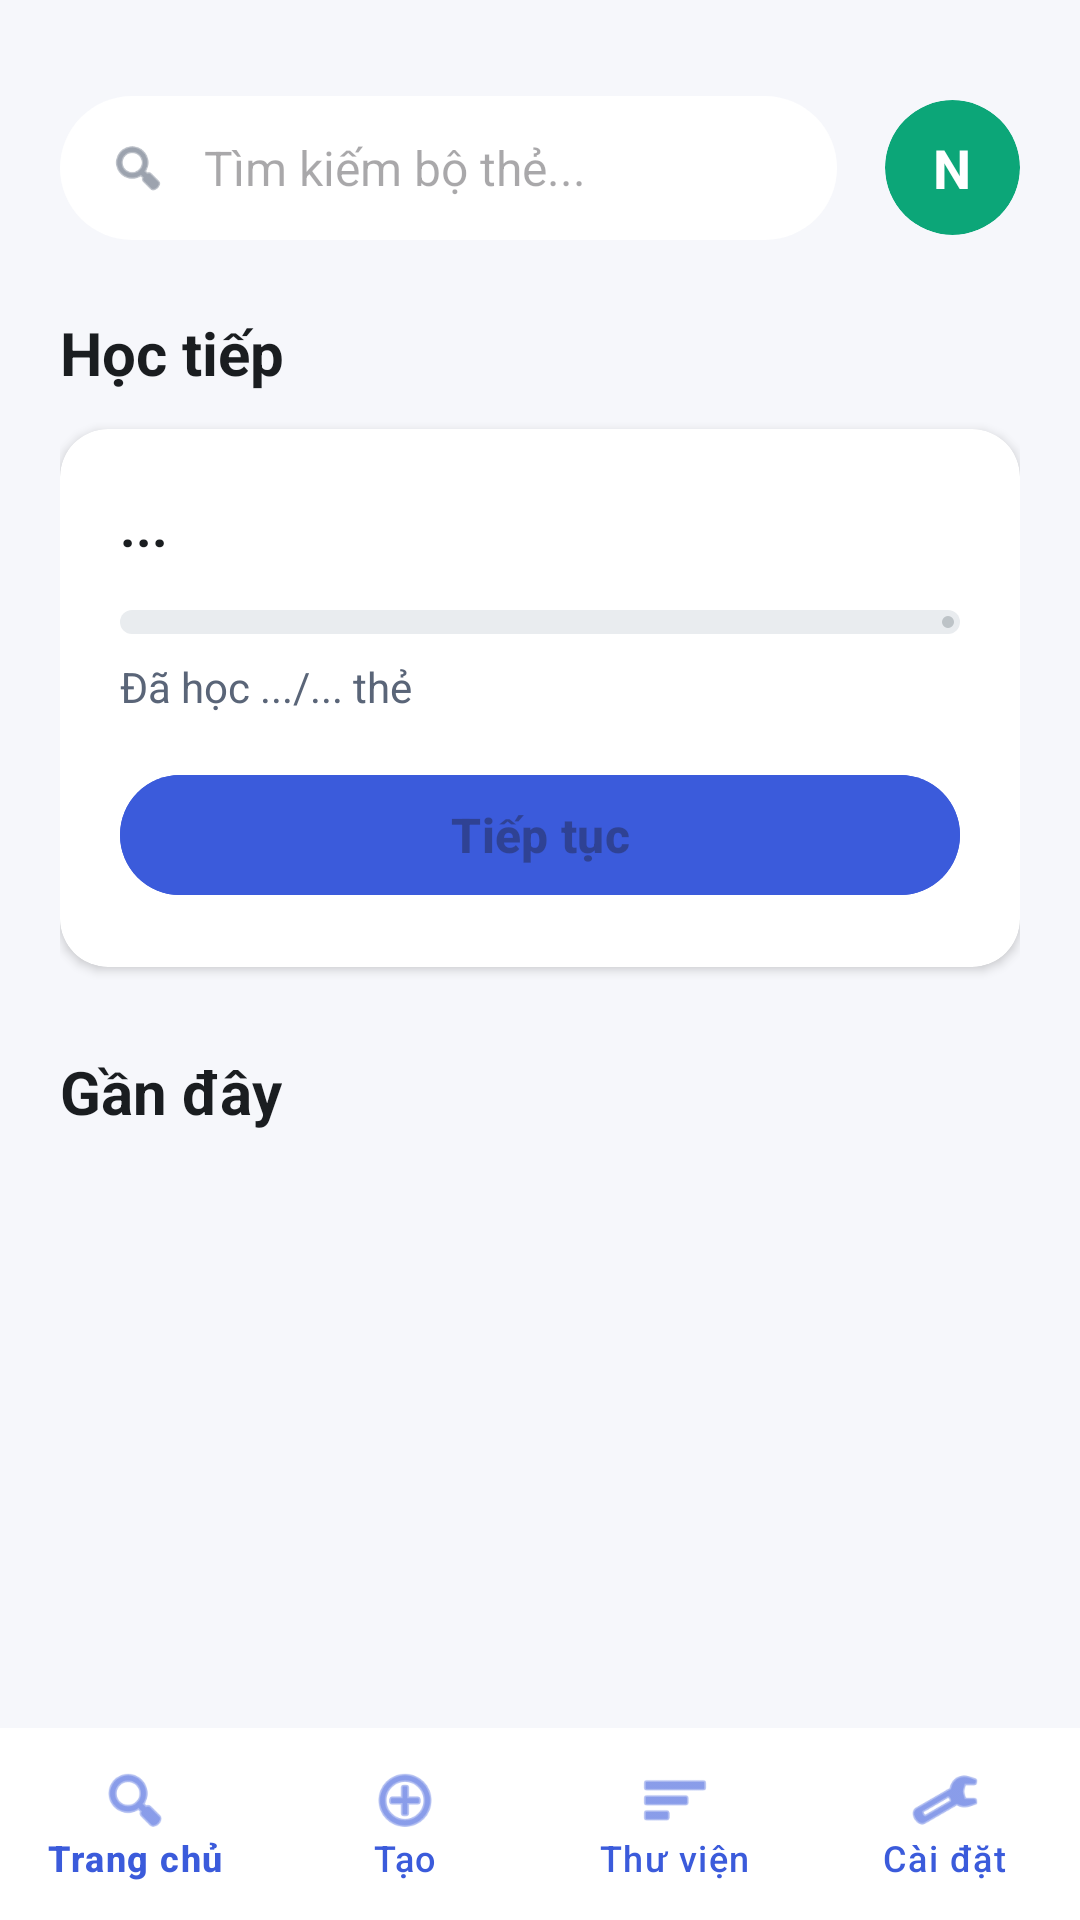

Screen size 1080*1920. Icon name, then its box in pixels as (x1, y1, x2, y2):
search: (116, 146, 160, 190)
